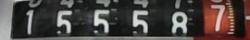digits: (128, 8, 154, 38), (167, 10, 190, 40), (54, 10, 78, 38), (93, 9, 112, 38), (209, 4, 225, 30), (22, 10, 38, 36)
